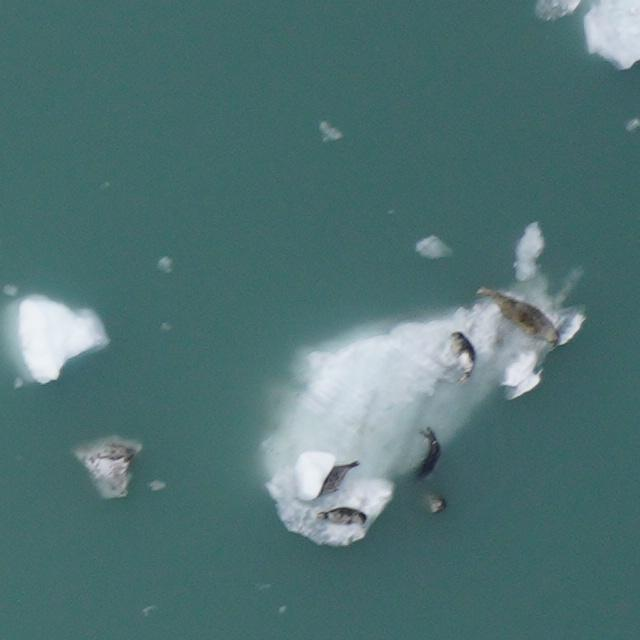seal: (467, 280, 569, 350), (312, 449, 363, 506), (412, 423, 446, 485), (416, 478, 460, 523), (448, 329, 479, 386), (316, 506, 369, 528)
